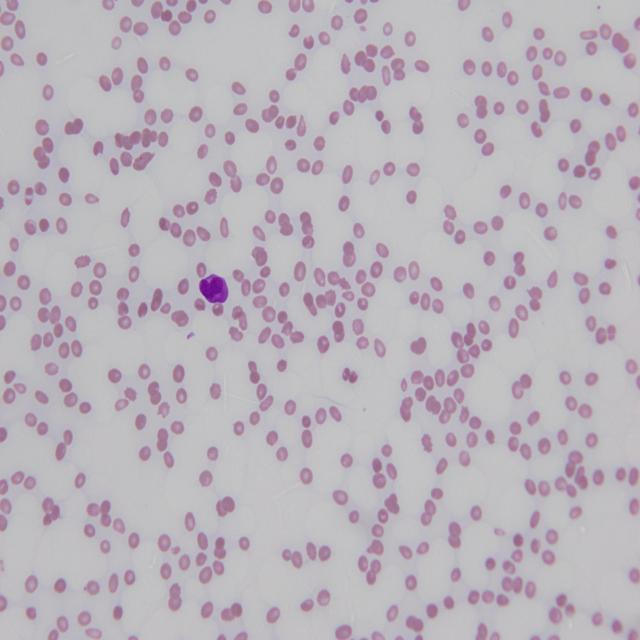cell: (199, 274, 229, 303)
